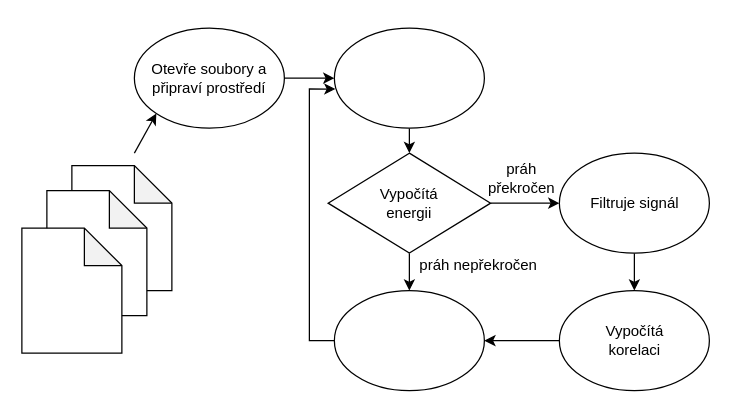
Image size: 731x413. Some labels were removed from this diagram. The shapes that lost their labels are listed below. From the top down, each one's centre as x and y in pixels, then its label:
At [408,77]: "Načte část signálu".
At [408,340]: "Vypočítá souřadnice".
